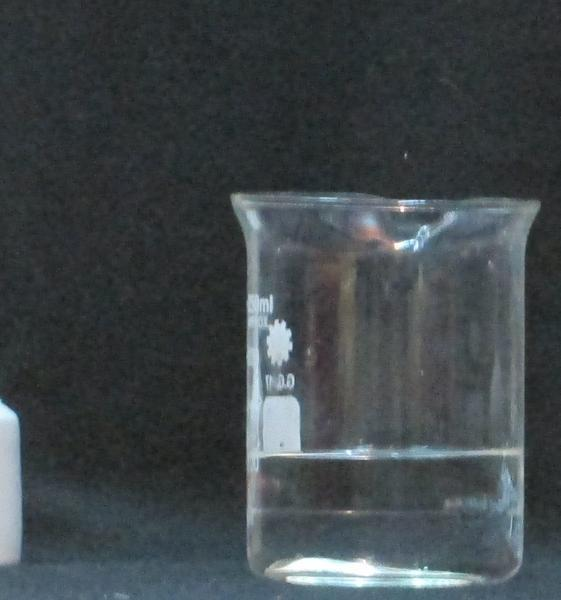Beaker: (229, 191, 543, 591)
